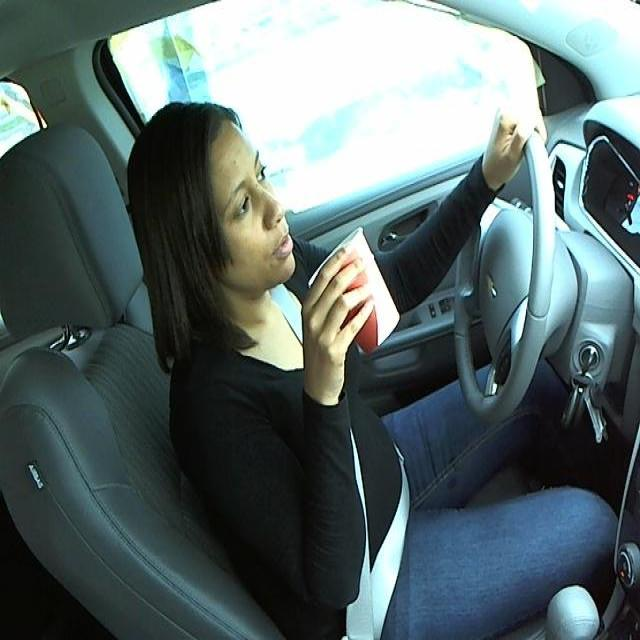Seatbelt: (314, 230, 401, 350)
